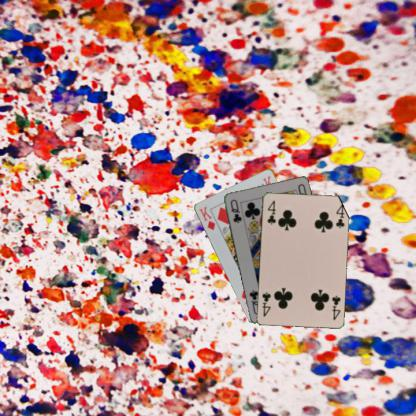4c: (329, 293, 341, 321), (264, 198, 276, 225)
Kd: (197, 203, 216, 231)
Qc: (228, 197, 242, 224)
